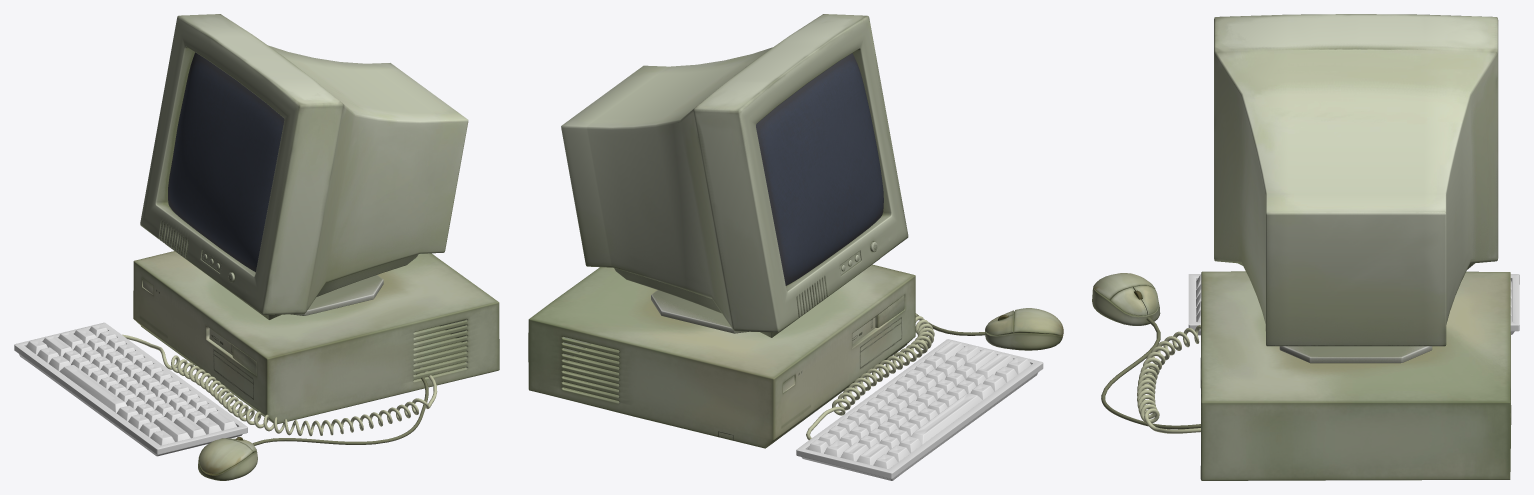
The picture shows the model from 3 angles, left to right: view 1: azimuth 30°, elevation 25°; view 2: azimuth 150°, elevation 25°; view 3: azimuth 270°, elevation 25°; orthographic projection. The views are drawn at different scales.
Visible parts, largest first — view 1: Object_10, Object_20, Object_18, Object_32, Object_30, Object_6, Object_16, Object_38, Object_8, Object_40; view 2: Object_10, Object_20, Object_18, Object_32, Object_30, Object_6, Object_16, Object_40, Object_38; view 3: Object_10, Object_20, Object_16, Object_6, Object_36, Object_30, Object_40, Object_8, Object_38.
Boxes of the visible parts, x1,y1,x2,y2 form: Object_10: (140,14,468,319); Object_20: (133,251,499,424); Object_18: (168,52,284,272); Object_32: (26,324,237,445); Object_30: (14,322,247,456); Object_6: (122,334,437,436); Object_16: (291,275,383,315); Object_38: (198,438,252,473); Object_8: (252,369,428,445); Object_40: (198,450,257,480); Object_10: (561,14,908,337); Object_20: (528,264,915,448); Object_18: (756,53,883,285); Object_32: (807,341,1031,468); Object_30: (796,339,1043,480); Object_6: (806,313,934,439); Object_16: (651,290,748,333); Object_40: (985,330,1063,350); Object_38: (1014,308,1063,335); Object_10: (1214,14,1498,346); Object_20: (1200,271,1511,480); Object_16: (1279,346,1432,363); Object_6: (1137,325,1200,433); Object_36: (1110,285,1158,315); Object_30: (1188,274,1519,335); Object_40: (1092,287,1160,325); Object_8: (1101,317,1200,429); Object_38: (1093,273,1155,300).
Bounding box in the file's own units: 689 × 593 × 635.
Materials: 7 (4 with a texture image).
